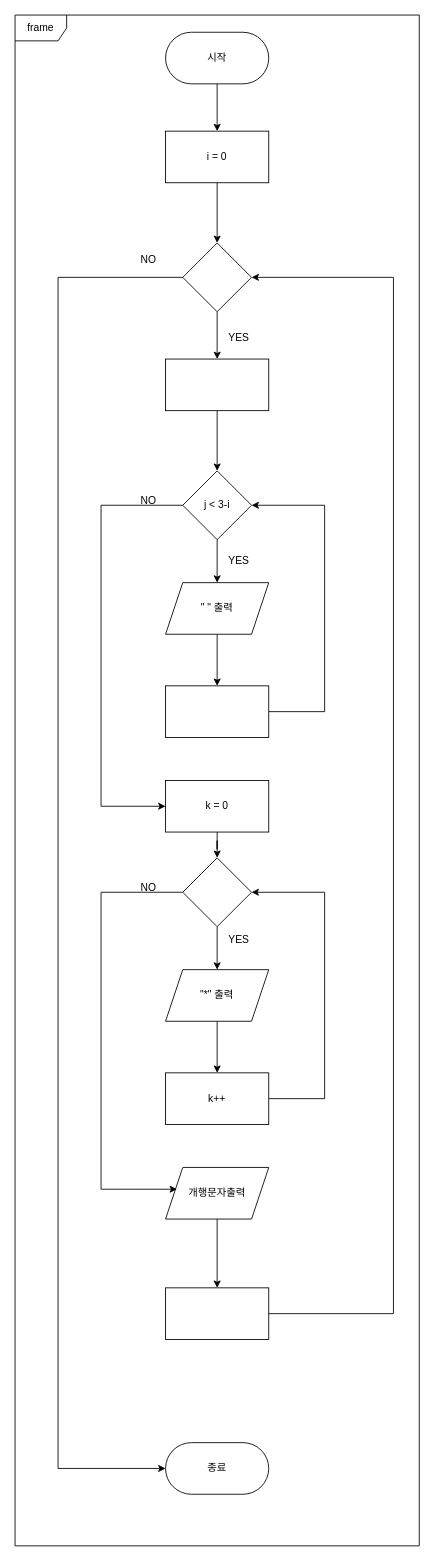
The diagram is 434 pixels wide and 1561 high, and some of its shapes have lost their labels. The centre of each missing label's shape, as x and y in pixels:
"i < 4" goes at (x=217, y=277).
"i++" goes at (x=217, y=1313).
"j = 0" goes at (x=217, y=384).
"j++" goes at (x=217, y=711).
"k<=2*i" goes at (x=217, y=892).
